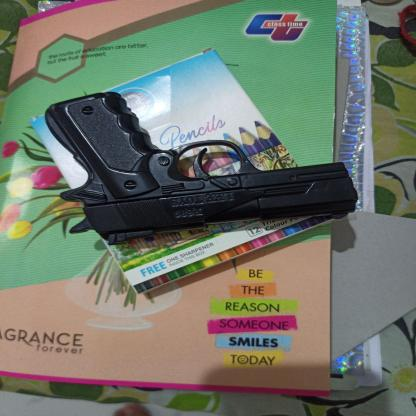handgun: (43, 87, 362, 242)
